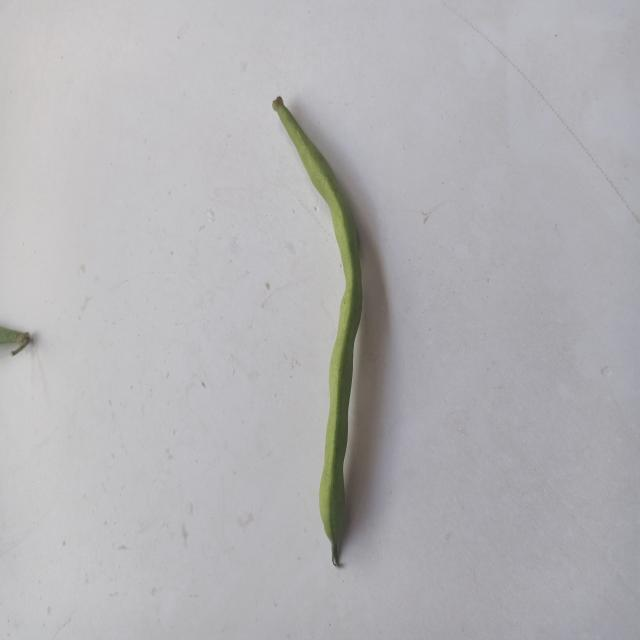Beans: (255, 71, 399, 585)
